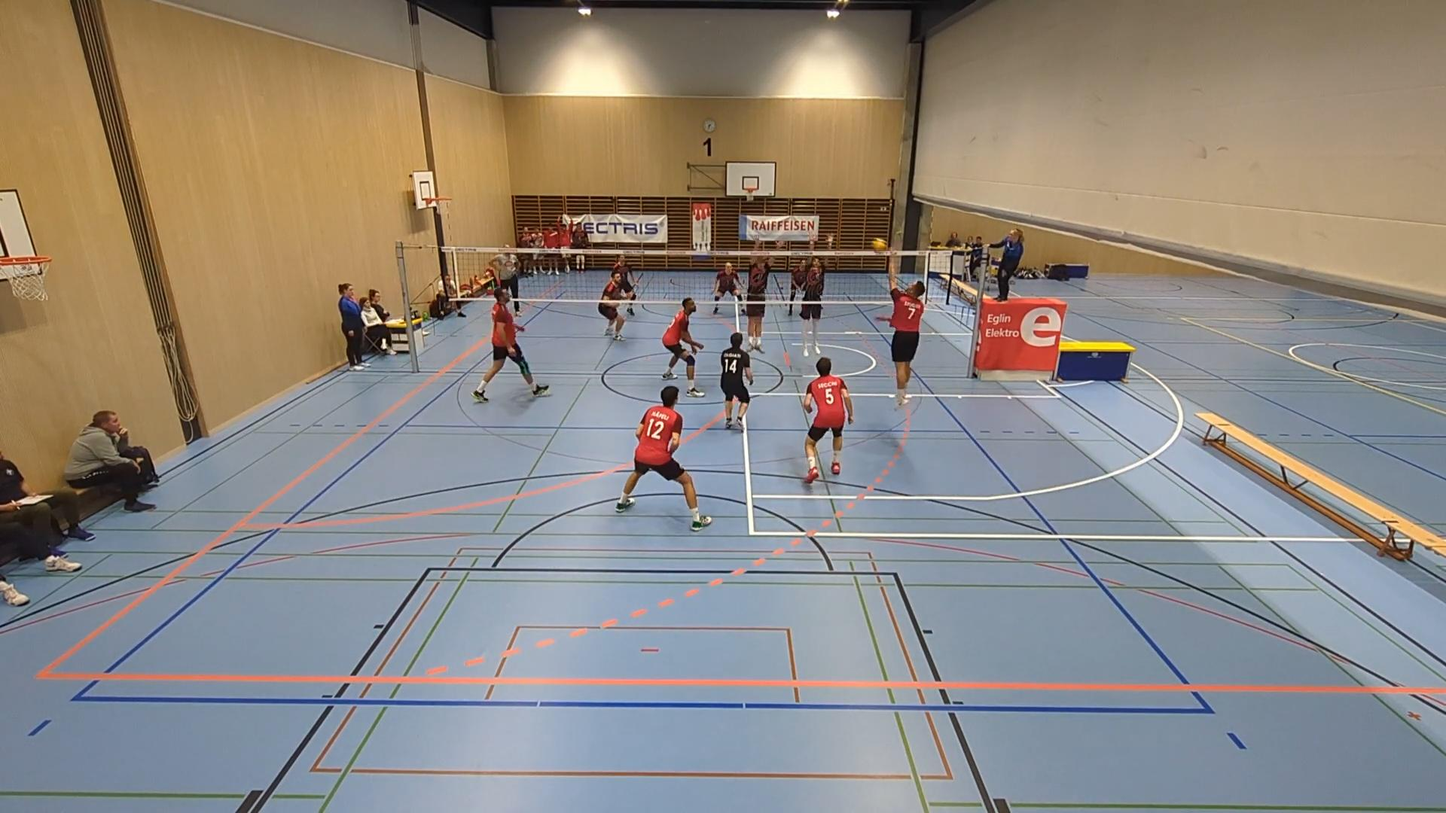attacco: (885, 248, 930, 410)
muro: (738, 240, 783, 351), (798, 231, 835, 360)
